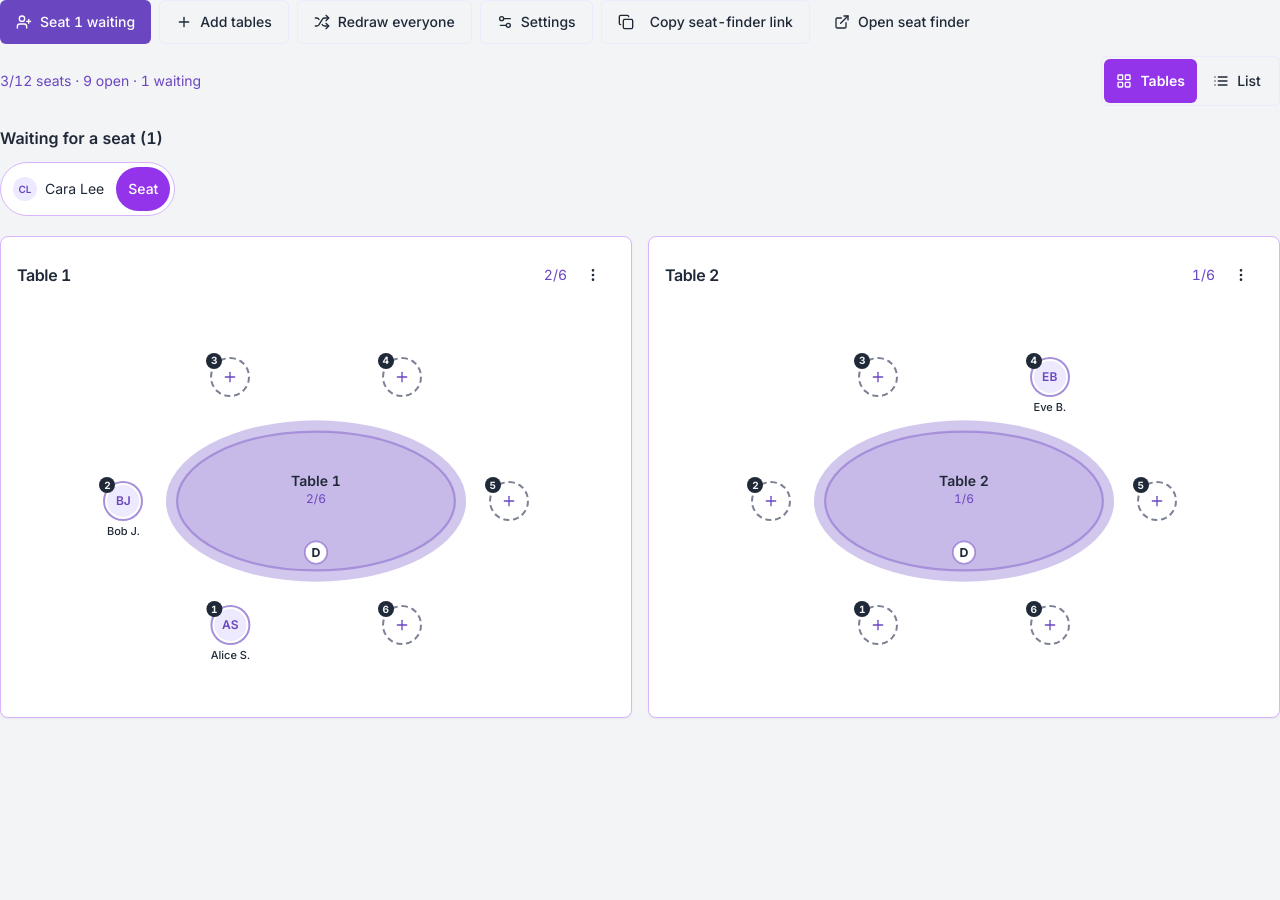
Scenario: SeatingPanel: moving players by hand › swaps two seated players once confirmed
The width and height of the screenshot is (1280, 900).
Click the button with aria-label "Seat 1: Alice Smith". click: (230, 634)
box: [207,605,254,663]
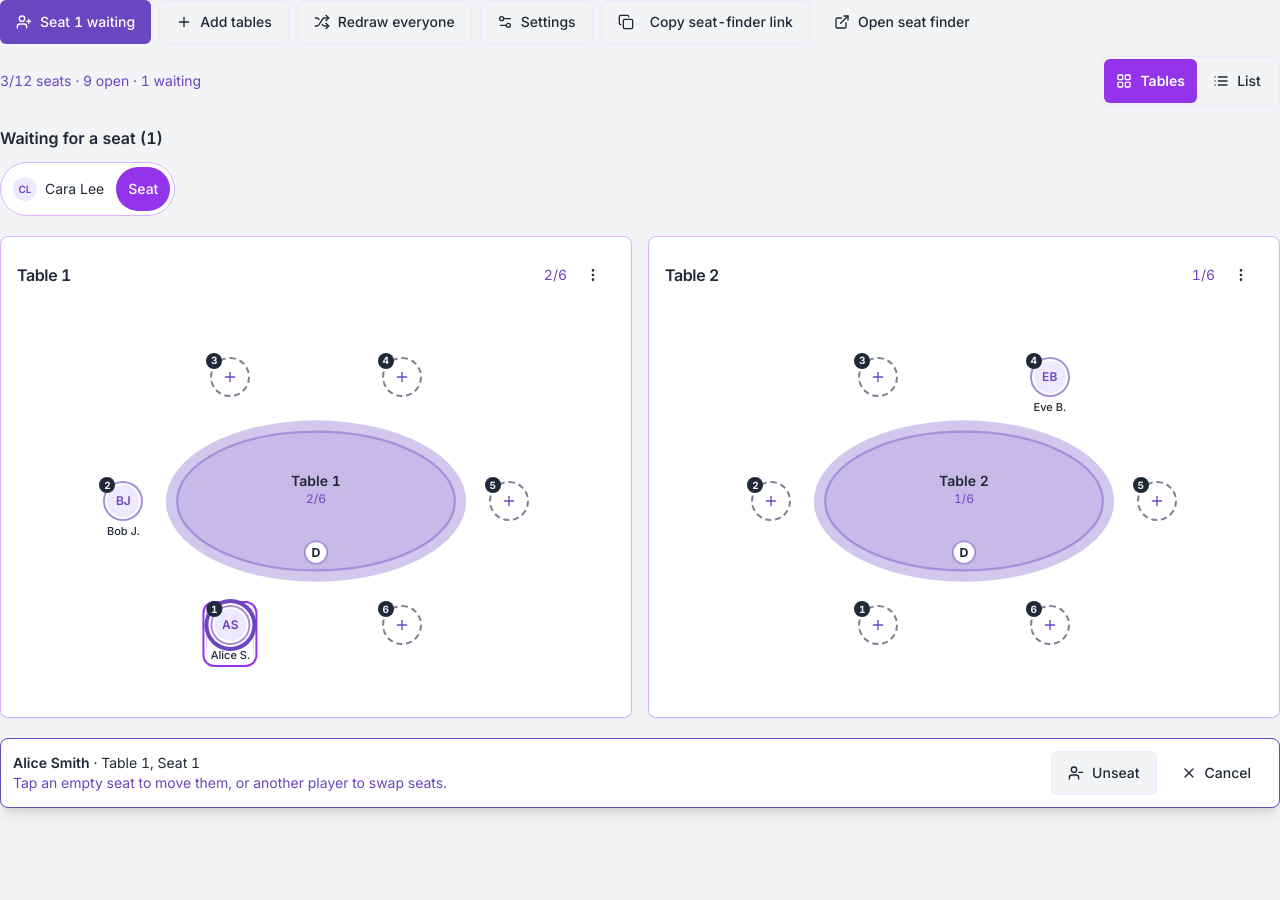
Click the button with aria-label "Seat 4: Eve Brown". click: (1050, 386)
box: [1028,357,1072,415]
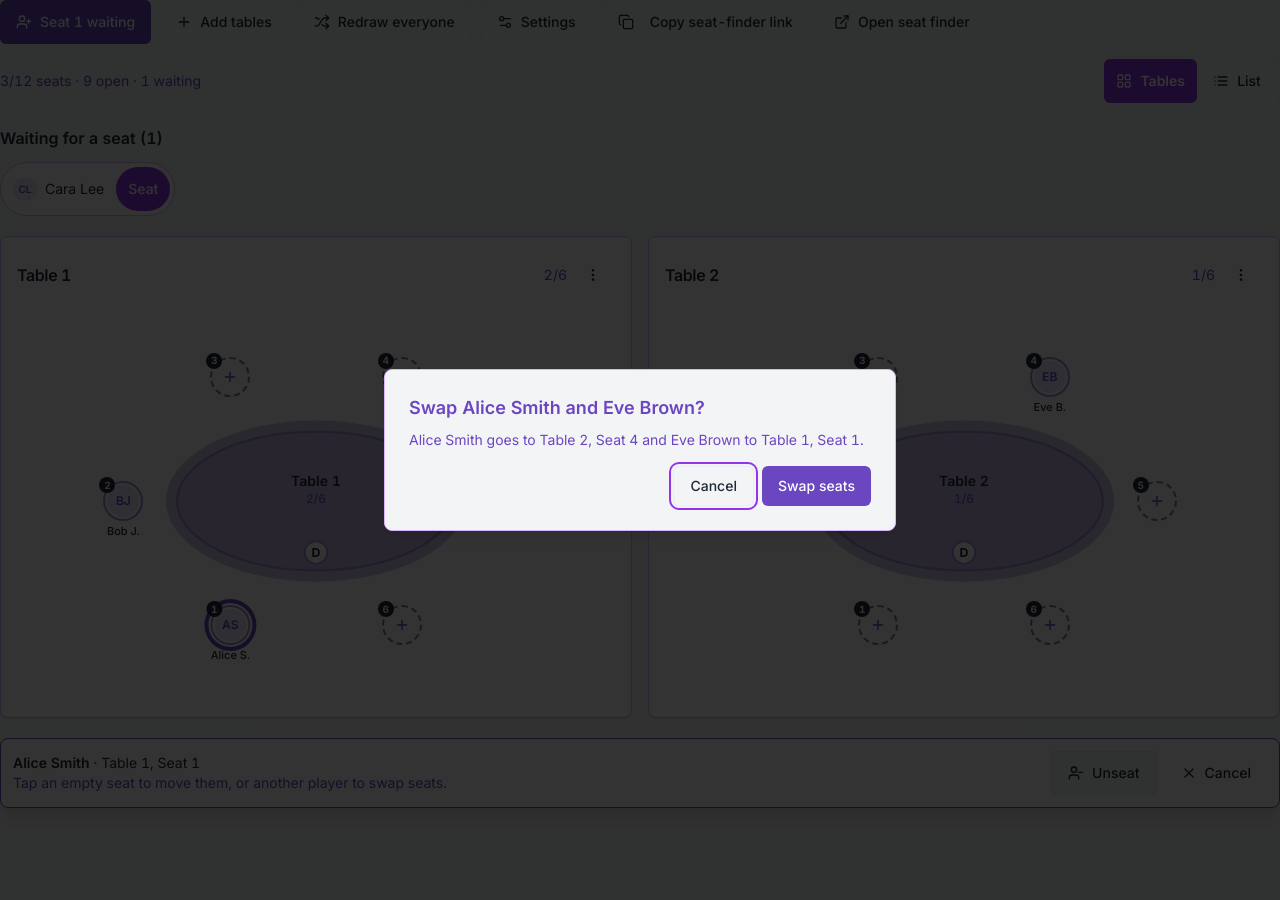
Expected: the dialog "Swap Alice Smith and Eve Brown?" shows "Alice Smith goes to Table 2, Seat 4 and Eve Brown to Table 1, Seat 1.", [409,431,864,448]
Click the button "Swap seats". click: (816, 486)
box: [762,466,871,506]
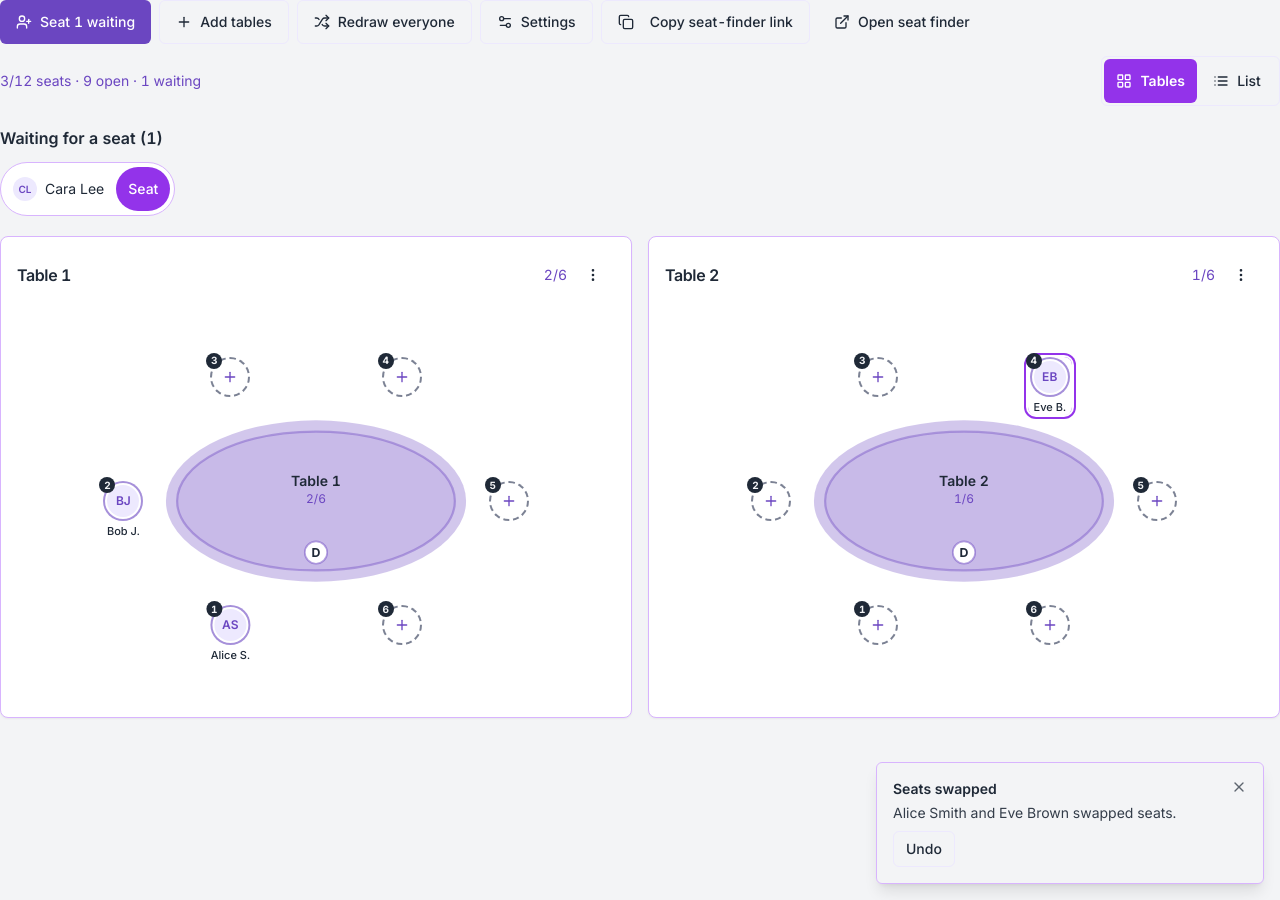
Expected: the text "Alice Smith and Eve Brown swapped seats." is shown, [893,803,1215,823]
